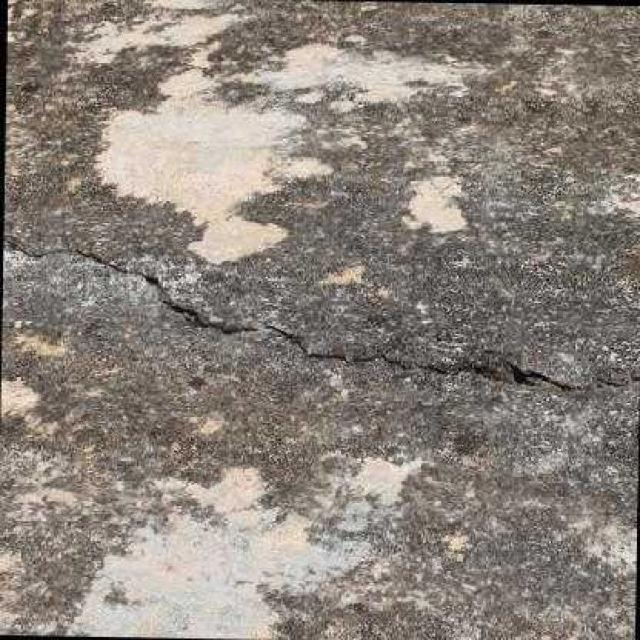D00: (1, 240, 639, 391)
